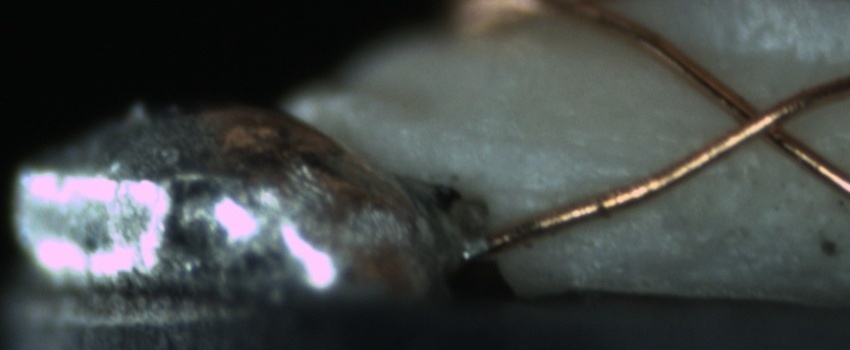CL: (714, 85, 800, 153)
